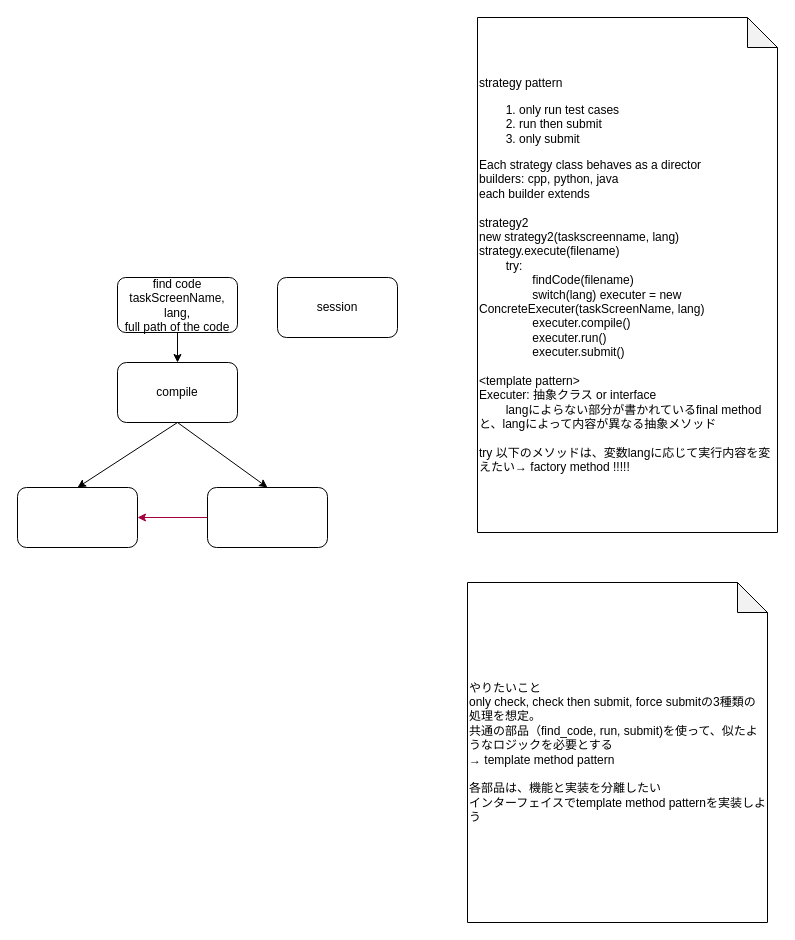
Some shapes in this 795 by 940 pixel diagram are drawn without their labels. The centre of each missing label's shape, as x and y in pixels:
run with test cases: point (267, 517)
submit code: point (77, 517)
